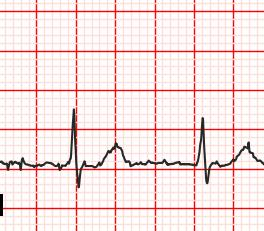ST Depression: (59, 160, 92, 190)
